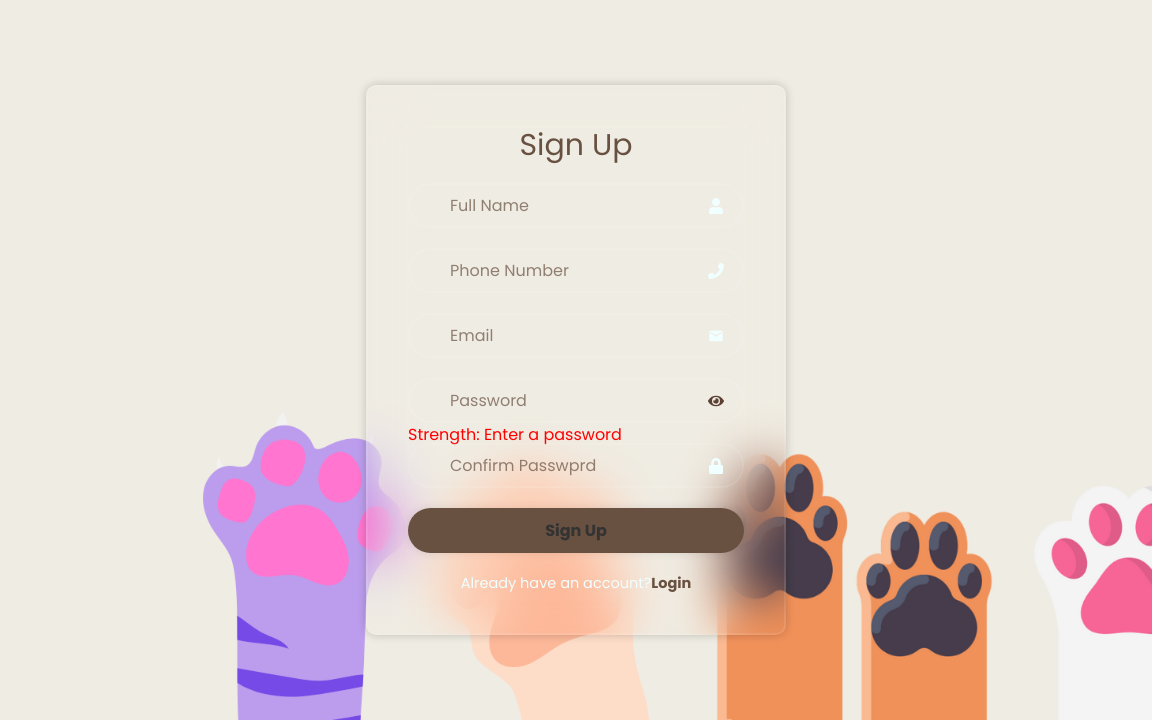
Test case: Register Component › Should show password mismatch error
In the password field with placeholder "Password": [576, 400] box [408,378,744,423], type "password123"
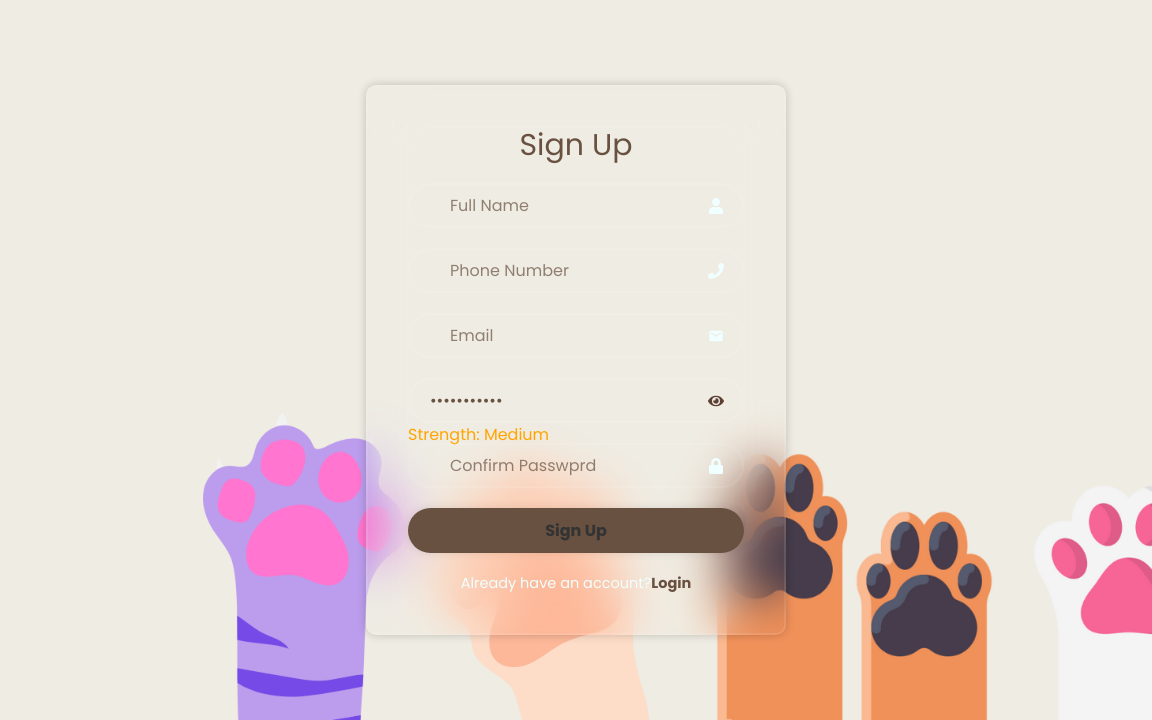
In the password field with placeholder "Confirm Passwprd": [576, 466] box [408,443,744,488], type "password321"
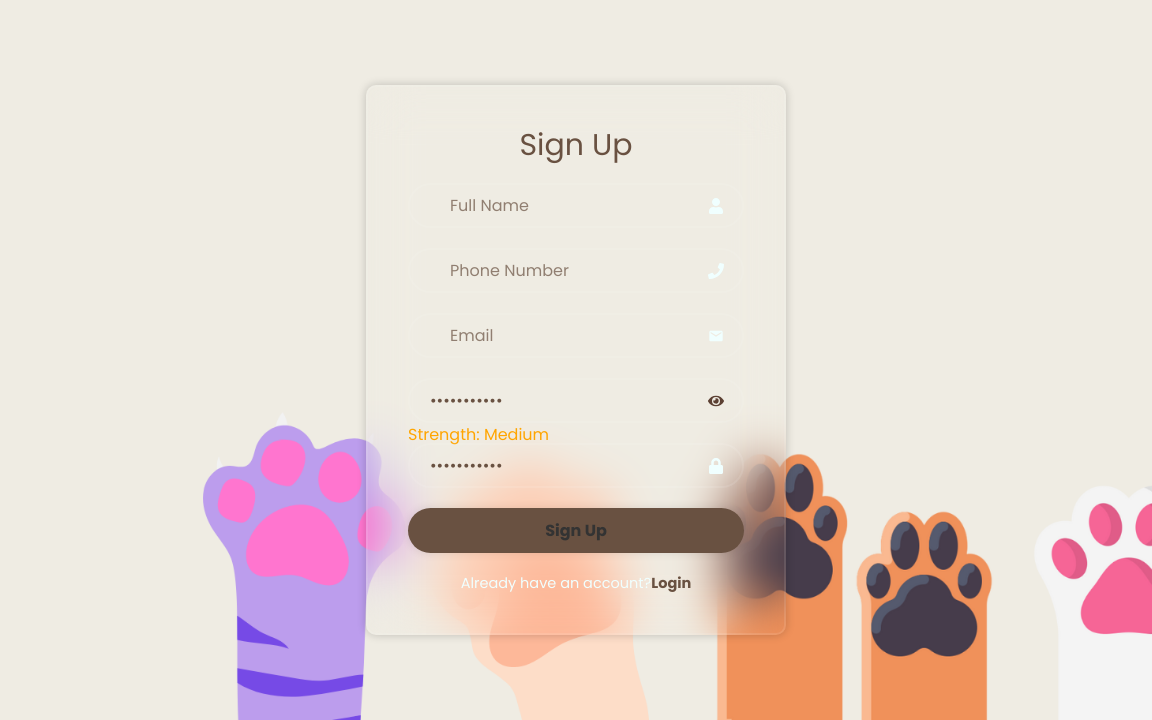
Click the button "Sign Up": [576, 530] box [408,508,744,553]
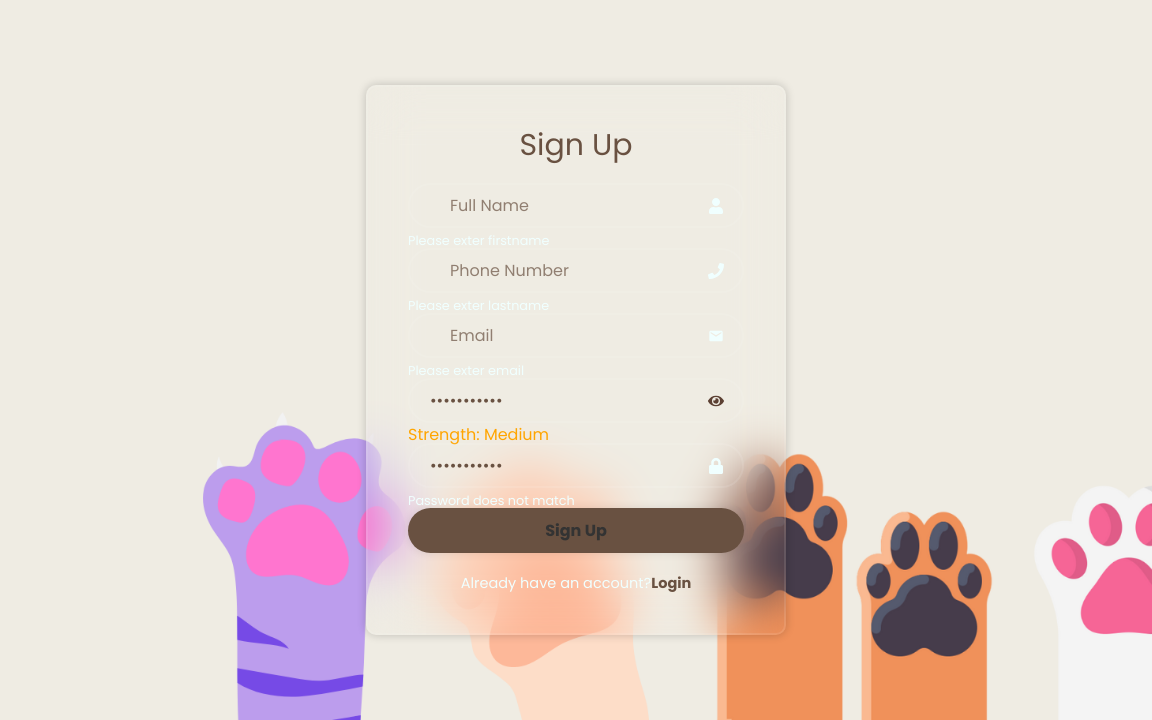
Now the text "Password does not match" is shown, box [408,492,575,509]
